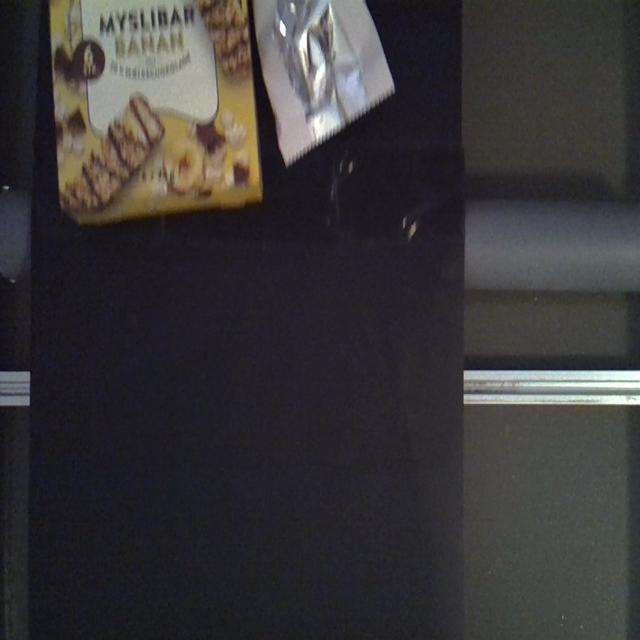carton: (46, 2, 268, 229)
packaging-soft-plastic: (254, 0, 398, 169)
